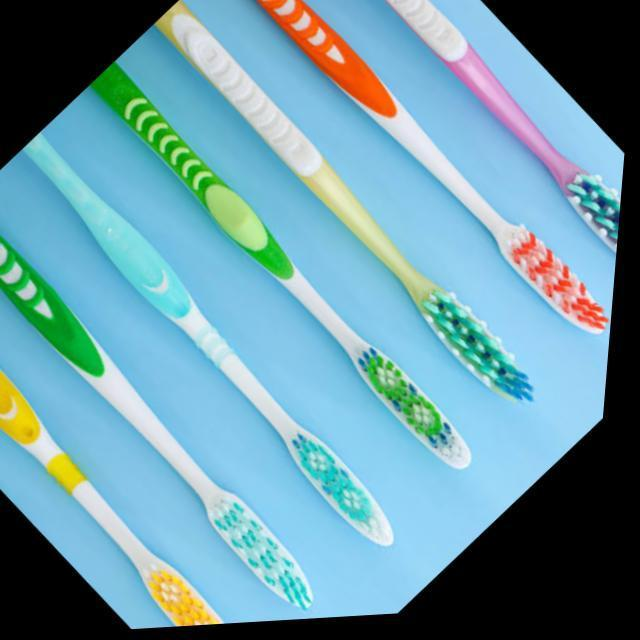toothbrush: (0, 112, 454, 588), (61, 43, 522, 509), (120, 0, 584, 448), (188, 0, 640, 384), (0, 182, 374, 640), (252, 0, 640, 332), (0, 240, 312, 640)
